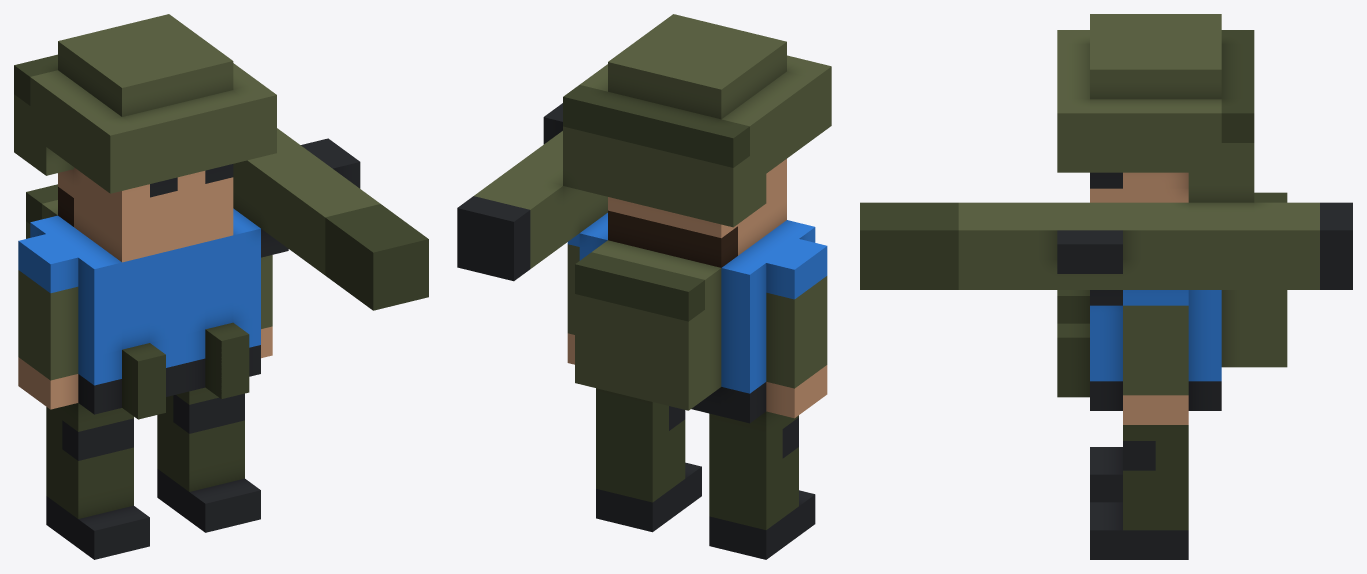
3 views of the same model, side by side, from view 1: azimuth 30°, elevation 25°; view 2: azimuth 150°, elevation 25°; view 3: azimuth 270°, elevation 25° (orthographic). The views are drawn at different scales.
Parts seen in each view (by area): view 1: cm_at_1_body; view 2: cm_at_1_body; view 3: cm_at_1_body.
Part boxes in pixels (x1=…): cm_at_1_body: x1=14, y1=14, x2=428, y2=559; cm_at_1_body: x1=457, y1=14, x2=831, y2=559; cm_at_1_body: x1=860, y1=14, x2=1352, y2=559.
Bounding box in the file's own units: 0.625 × 1 × 0.9375.
1 material, 1 textured.
